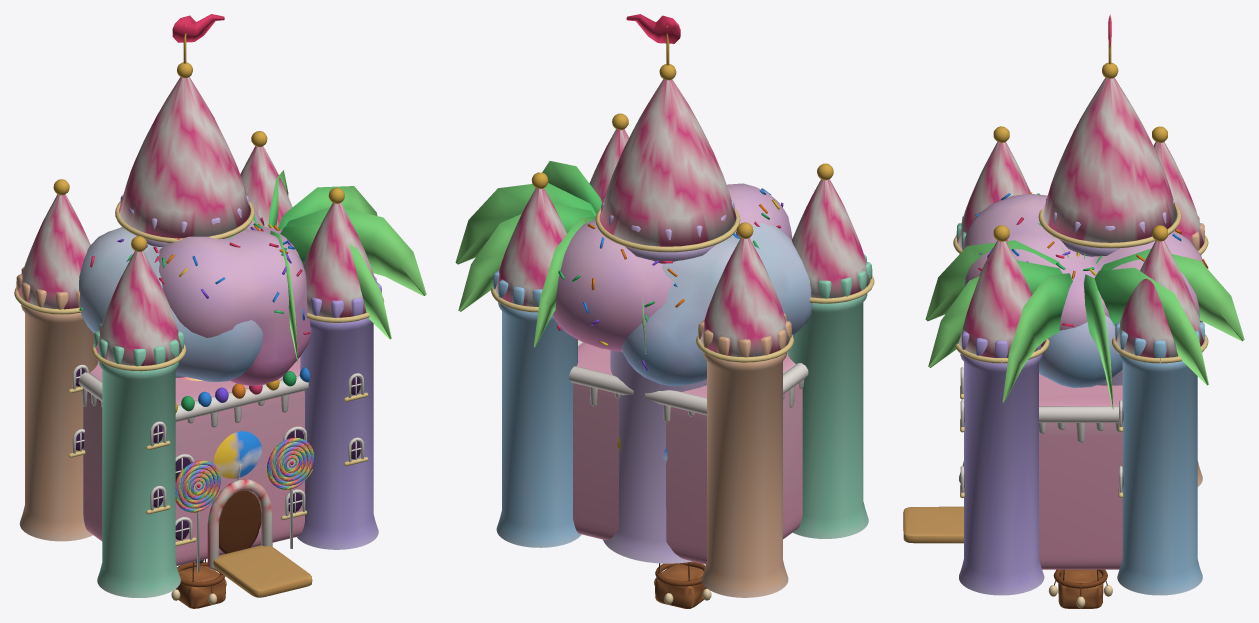
File: far.glb
3 views of the same model, side by side, from view 1: azimuth 30°, elevation 25°; view 2: azimuth 150°, elevation 25°; view 3: azimuth 270°, elevation 25° (orthographic). The views are drawn at different scales.
Parts seen in each view (by area): view 1: CastleLo, CottonPinkLo, PalmLo, CottonBlueLo, BalloonALo; view 2: CastleLo, CottonBlueLo, CottonPinkLo, PalmLo, BalloonALo; view 3: CastleLo, PalmLo, CottonPinkLo, CottonBlueLo, BalloonALo.
Part boxes in pixels (<box>): CastleLo: <box>14,14,384,597</box>; CottonPinkLo: <box>154,209,311,385</box>; PalmLo: <box>228,170,426,362</box>; CottonBlueLo: <box>79,227,262,381</box>; BalloonALo: <box>171,377,261,608</box>; CastleLo: <box>491,14,874,597</box>; CottonBlueLo: <box>621,222,812,386</box>; CottonPinkLo: <box>552,183,792,351</box>; PalmLo: <box>455,161,646,353</box>; BalloonALo: <box>617,437,711,608</box>; CastleLo: <box>903,14,1208,595</box>; PalmLo: <box>925,223,1244,409</box>; CottonPinkLo: <box>962,192,1208,330</box>; CottonBlueLo: <box>1039,315,1122,387</box>; BalloonALo: <box>1048,569,1112,608</box>.
Bounding box in the file's own units: 4.86 × 7.75 × 4.09.
